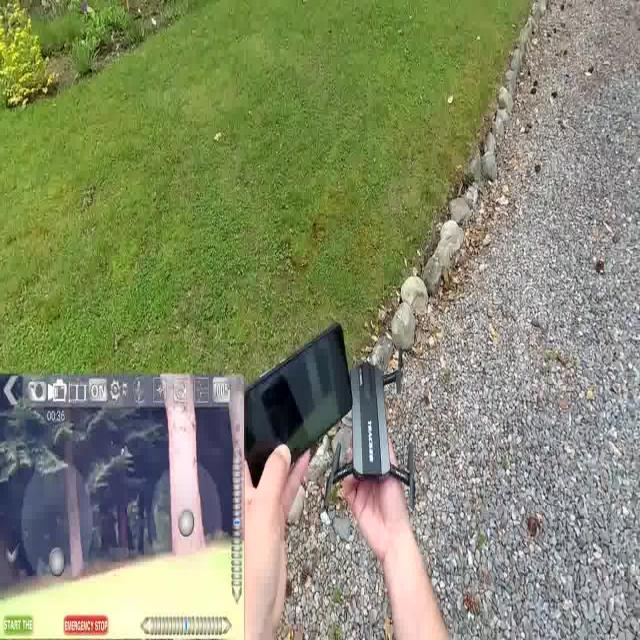drones: (318, 332, 423, 520)
